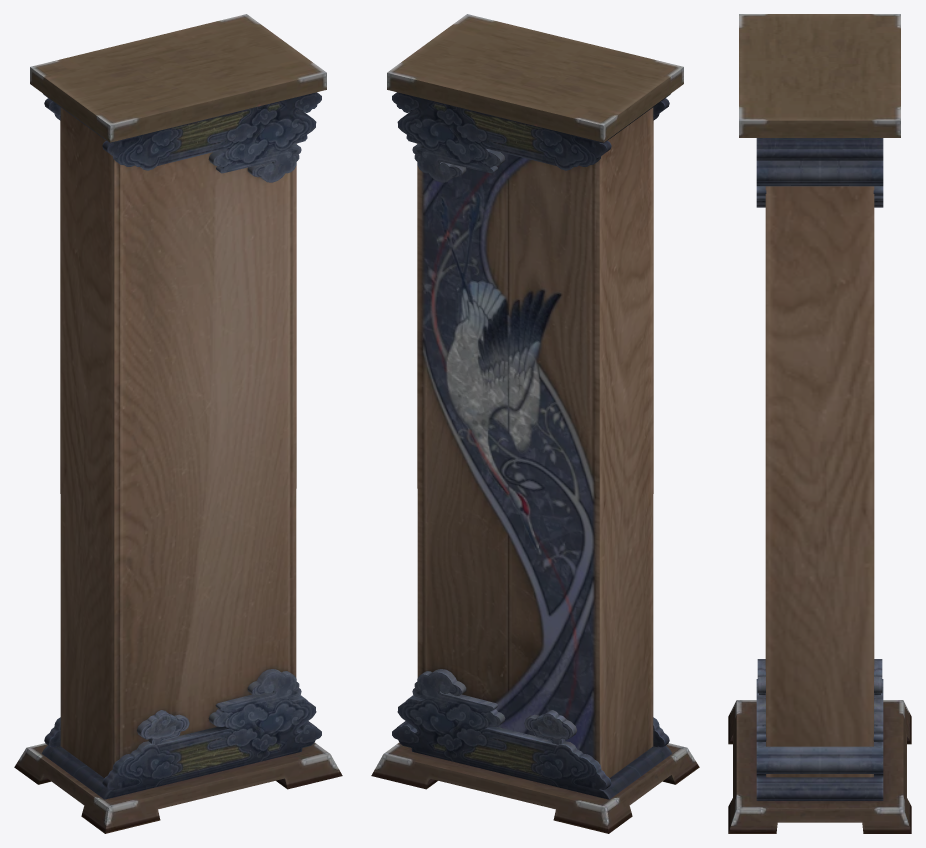
Rendered from furniture-20783.glb.
3 renders of one model, left to right at view 1: azimuth 30°, elevation 25°; view 2: azimuth 150°, elevation 25°; view 3: azimuth 270°, elevation 25°, orthographic.
Size of the model in its own units: 0.9728 by 2.75 by 0.645.
1 material, 1 textured.
